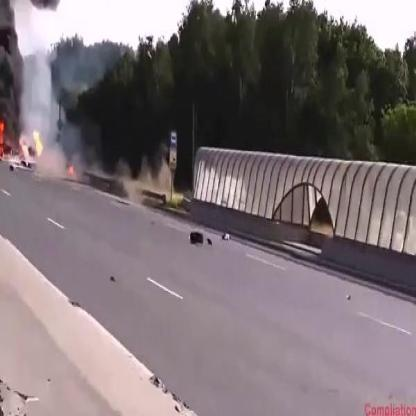fire: (31, 123, 44, 161), (0, 118, 6, 158), (67, 160, 75, 176)
